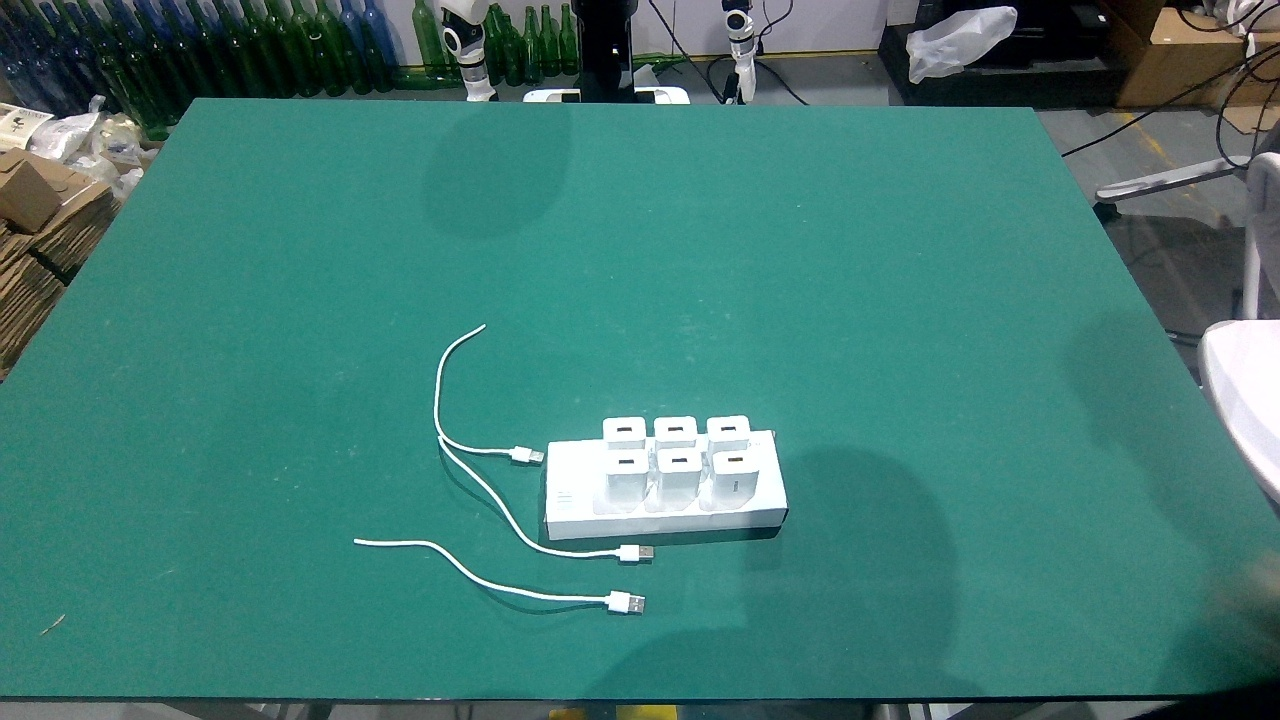usb_a_port: (718, 425, 738, 434), (670, 456, 689, 465), (726, 455, 745, 464), (666, 426, 685, 434), (616, 458, 635, 466), (615, 426, 634, 433)
